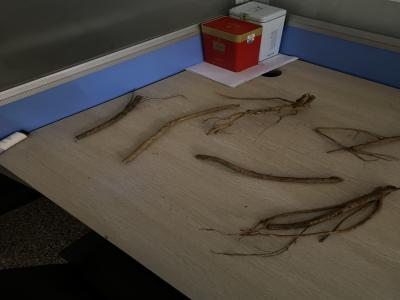Root: (122, 104, 240, 163), (260, 186, 400, 230), (207, 93, 316, 135), (196, 155, 344, 183), (76, 95, 143, 139), (314, 128, 400, 161), (308, 225, 344, 235), (226, 97, 287, 102)
